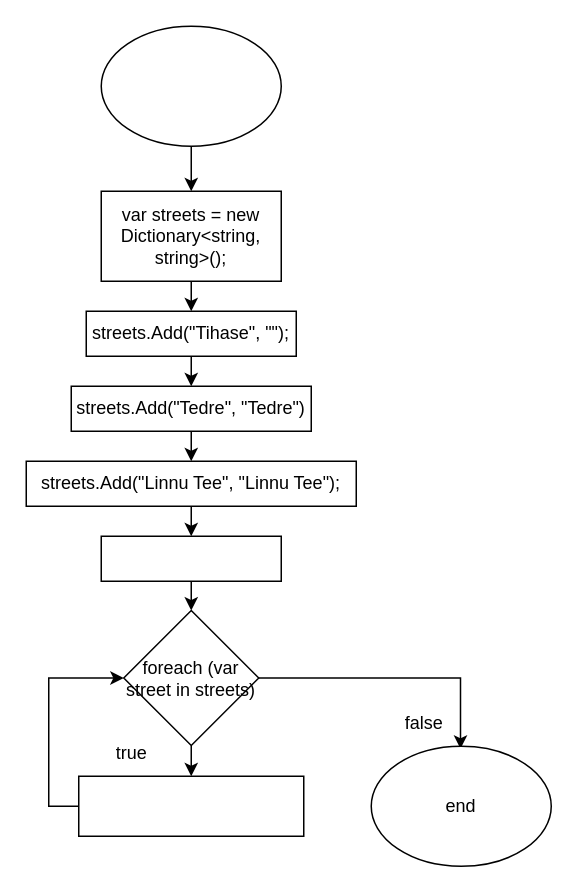
This 578x893 diagram has some shape labels left out. Here are the shapes that lost their labels. From the top down, the centre of each, then its label:
point (190, 85): start
point (190, 558): streets.Add("Siili", "");
point (190, 805): Console.WriteLine($"{street.Key}");
